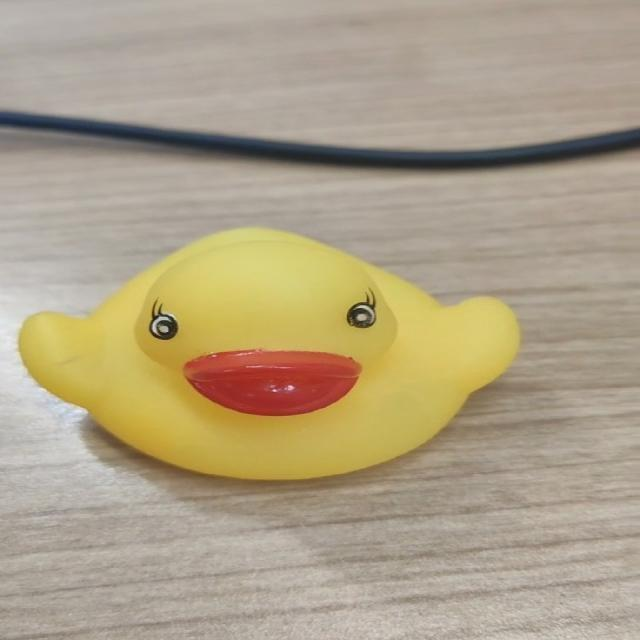rubber-duck: (18, 227, 517, 477)
